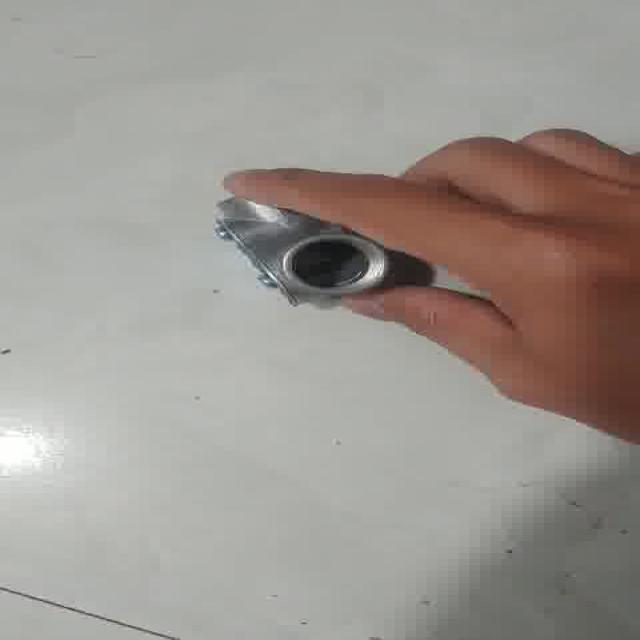Dry Waste: (192, 203, 413, 300)
